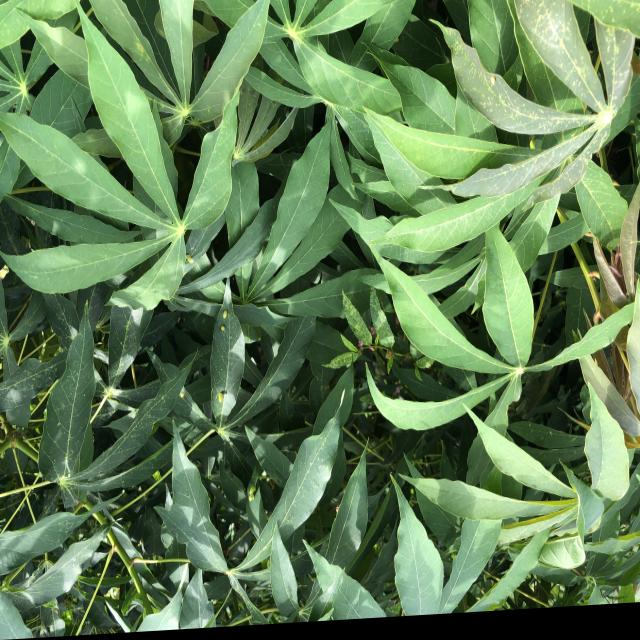Mosca: (213, 384, 237, 411), (477, 69, 501, 91), (217, 302, 231, 335)
